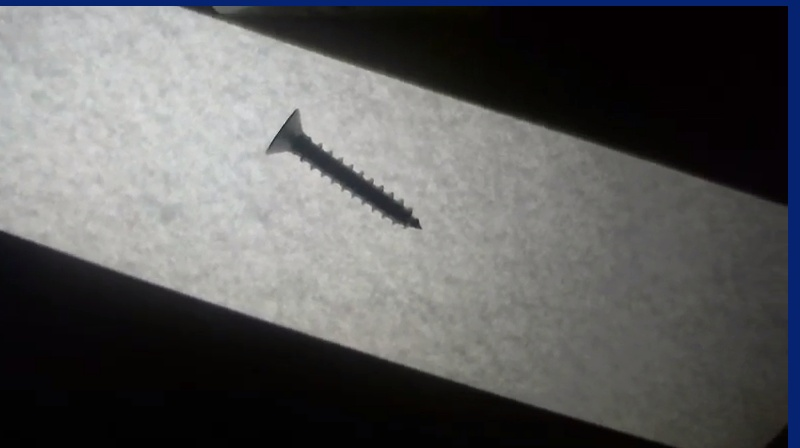S001: (262, 105, 423, 233)
